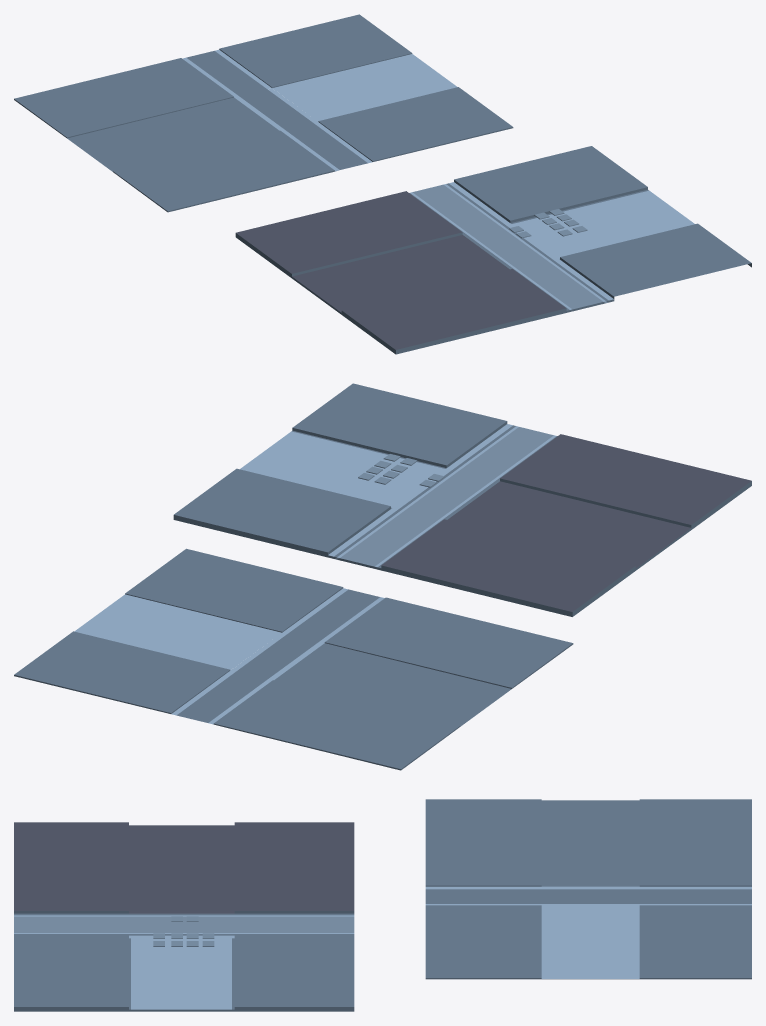
The model's file is NEW ENVIREMENT   222.fbx.
3 views of the same model, one above another, from view 1: azimuth 30°, elevation 25°; view 2: azimuth 150°, elevation 25°; view 3: azimuth 270°, elevation 25° (orthographic). The views are drawn at different scales.
Visible parts, largest first — view 1: Cube.001, Cube; view 2: Cube.001, Cube; view 3: Cube.001, Cube.
Part boxes in pixels (left/top/right/bottom): Cube.001: left=235, top=146, right=751, bottom=354; Cube: left=14, top=14, right=513, bottom=212; Cube.001: left=173, top=383, right=751, bottom=616; Cube: left=14, top=548, right=573, bottom=770; Cube.001: left=14, top=822, right=354, bottom=1011; Cube: left=425, top=799, right=751, bottom=979.
Bounding box in the file's own units: 508 × 17.28 × 784.
